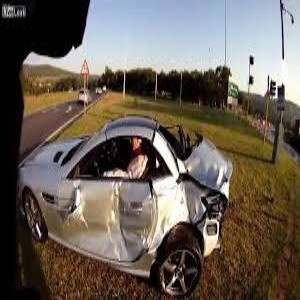door: (58, 187, 153, 258)
